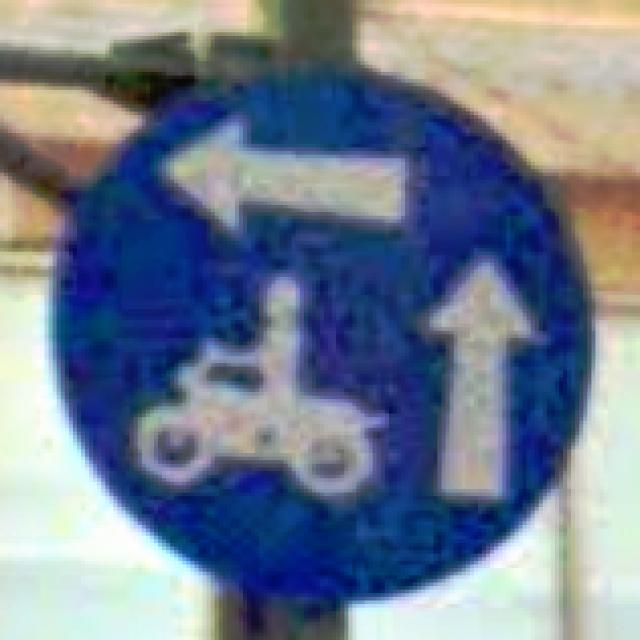twostageturn: (41, 54, 596, 608)
